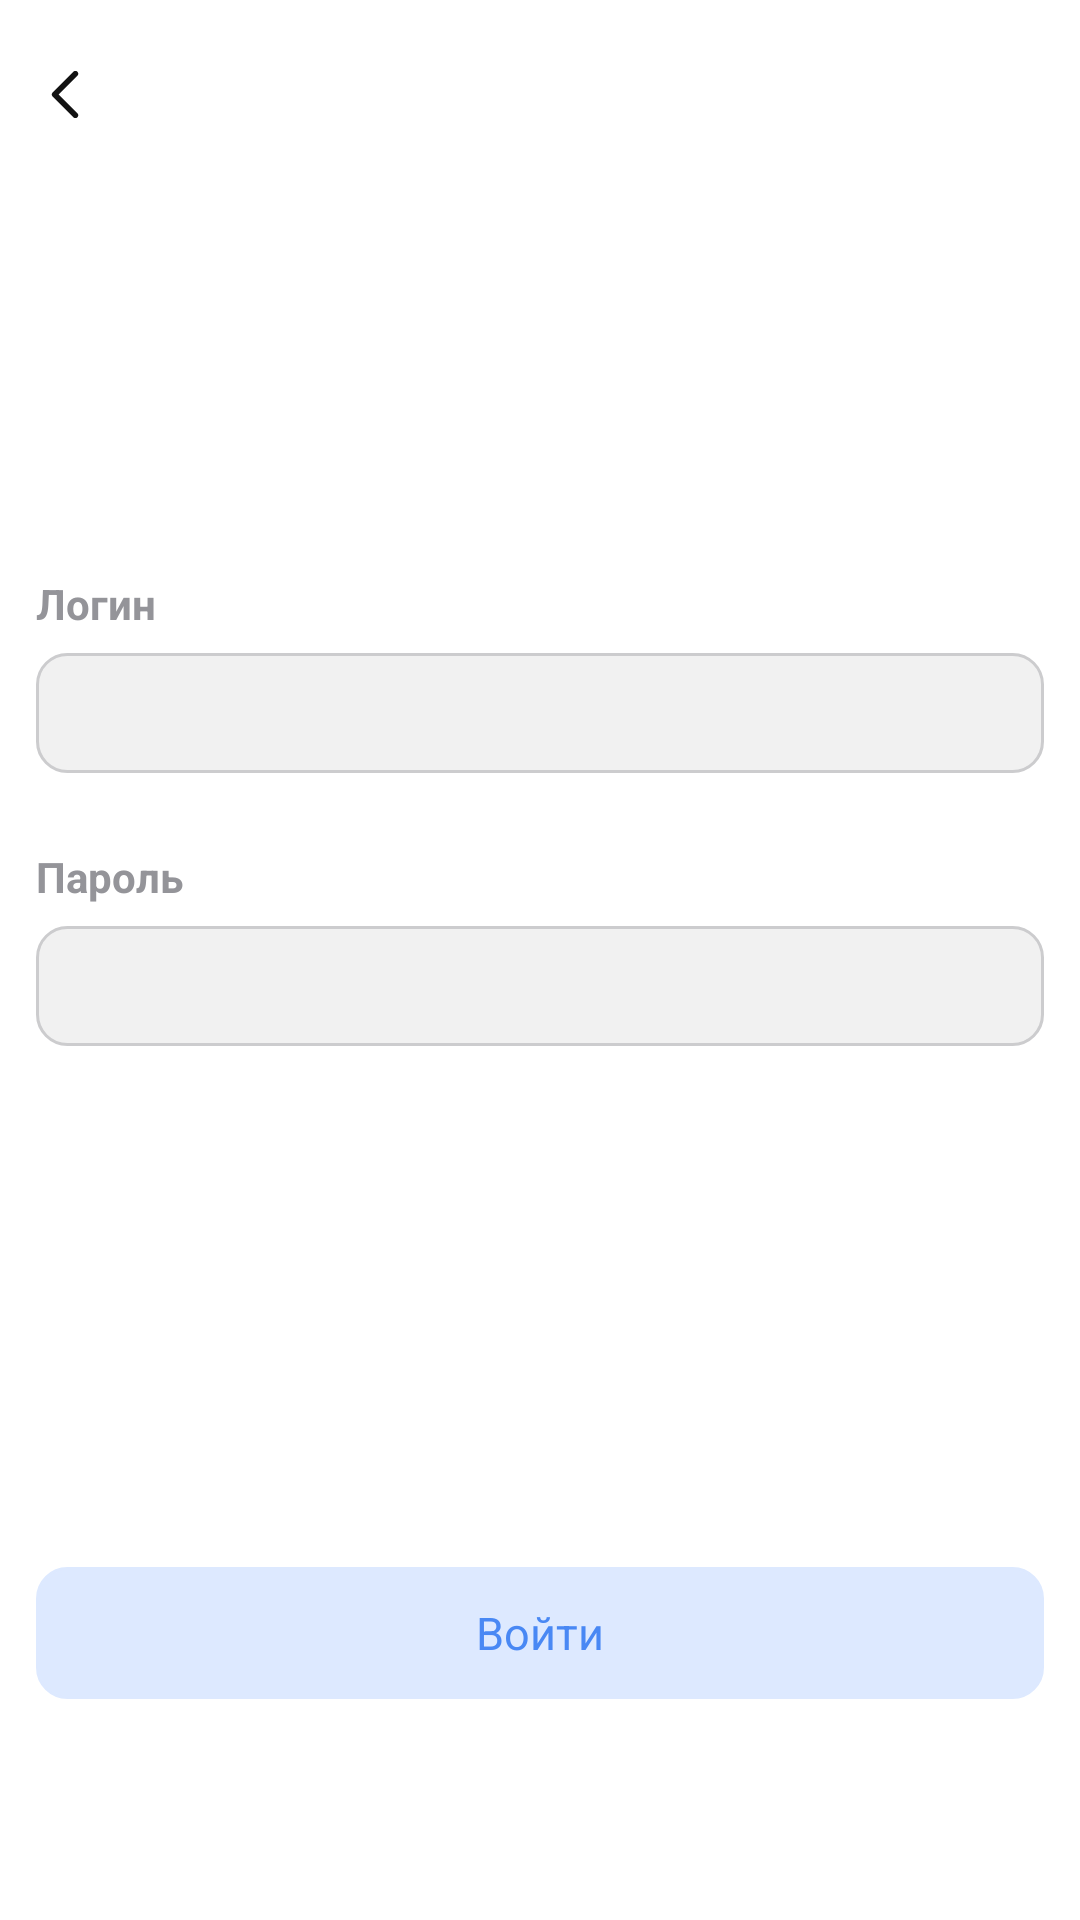

Icon bounding boxes for this 1080*1920 phone screenshot, format (x1, y1, x2, y2):
back arrow: (51, 71, 79, 118)
